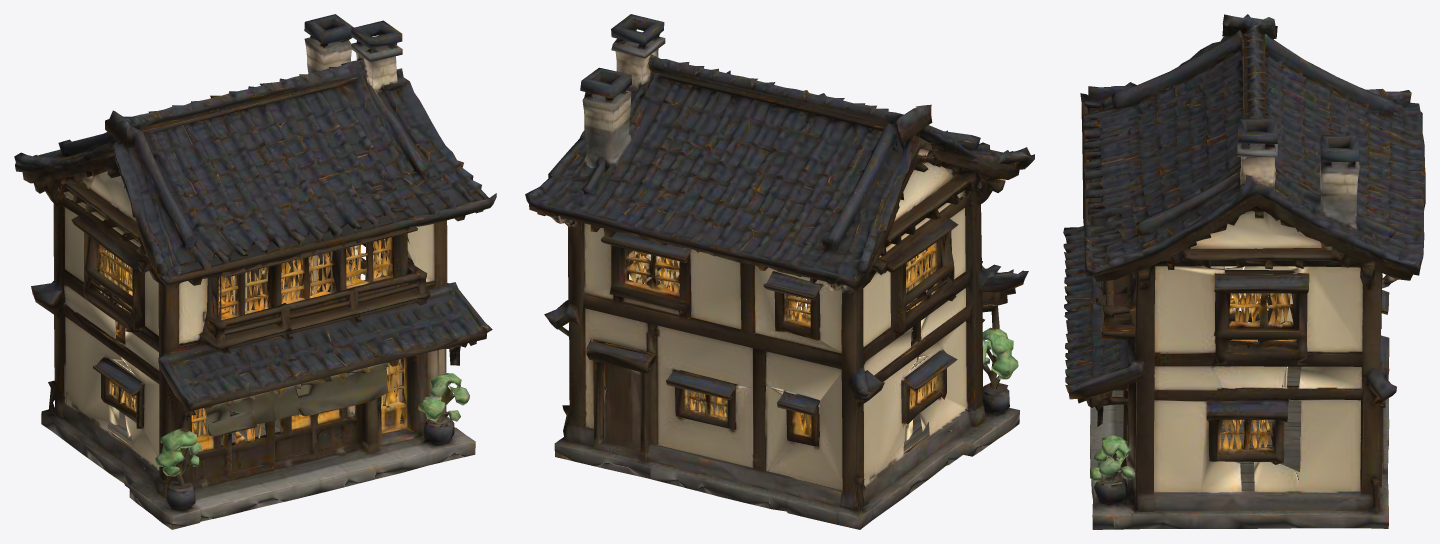
File: candidate.glb
The picture shows the model from 3 angles, left to right: view 1: azimuth 30°, elevation 25°; view 2: azimuth 150°, elevation 25°; view 3: azimuth 270°, elevation 25°; orthographic projection. The views are drawn at different scales.
Visible parts, largest first — view 1: compact__shop_2__native_mobile; view 2: compact__shop_2__native_mobile; view 3: compact__shop_2__native_mobile.
Boxes of the visible parts, <box> form: compact__shop_2__native_mobile: <box>14,14,496,529</box>; compact__shop_2__native_mobile: <box>525,14,1034,529</box>; compact__shop_2__native_mobile: <box>1063,14,1425,529</box>.
Bounding box in the file's own units: 0.9546 × 1 × 0.835.
Materials: 1 (1 with a texture image).
